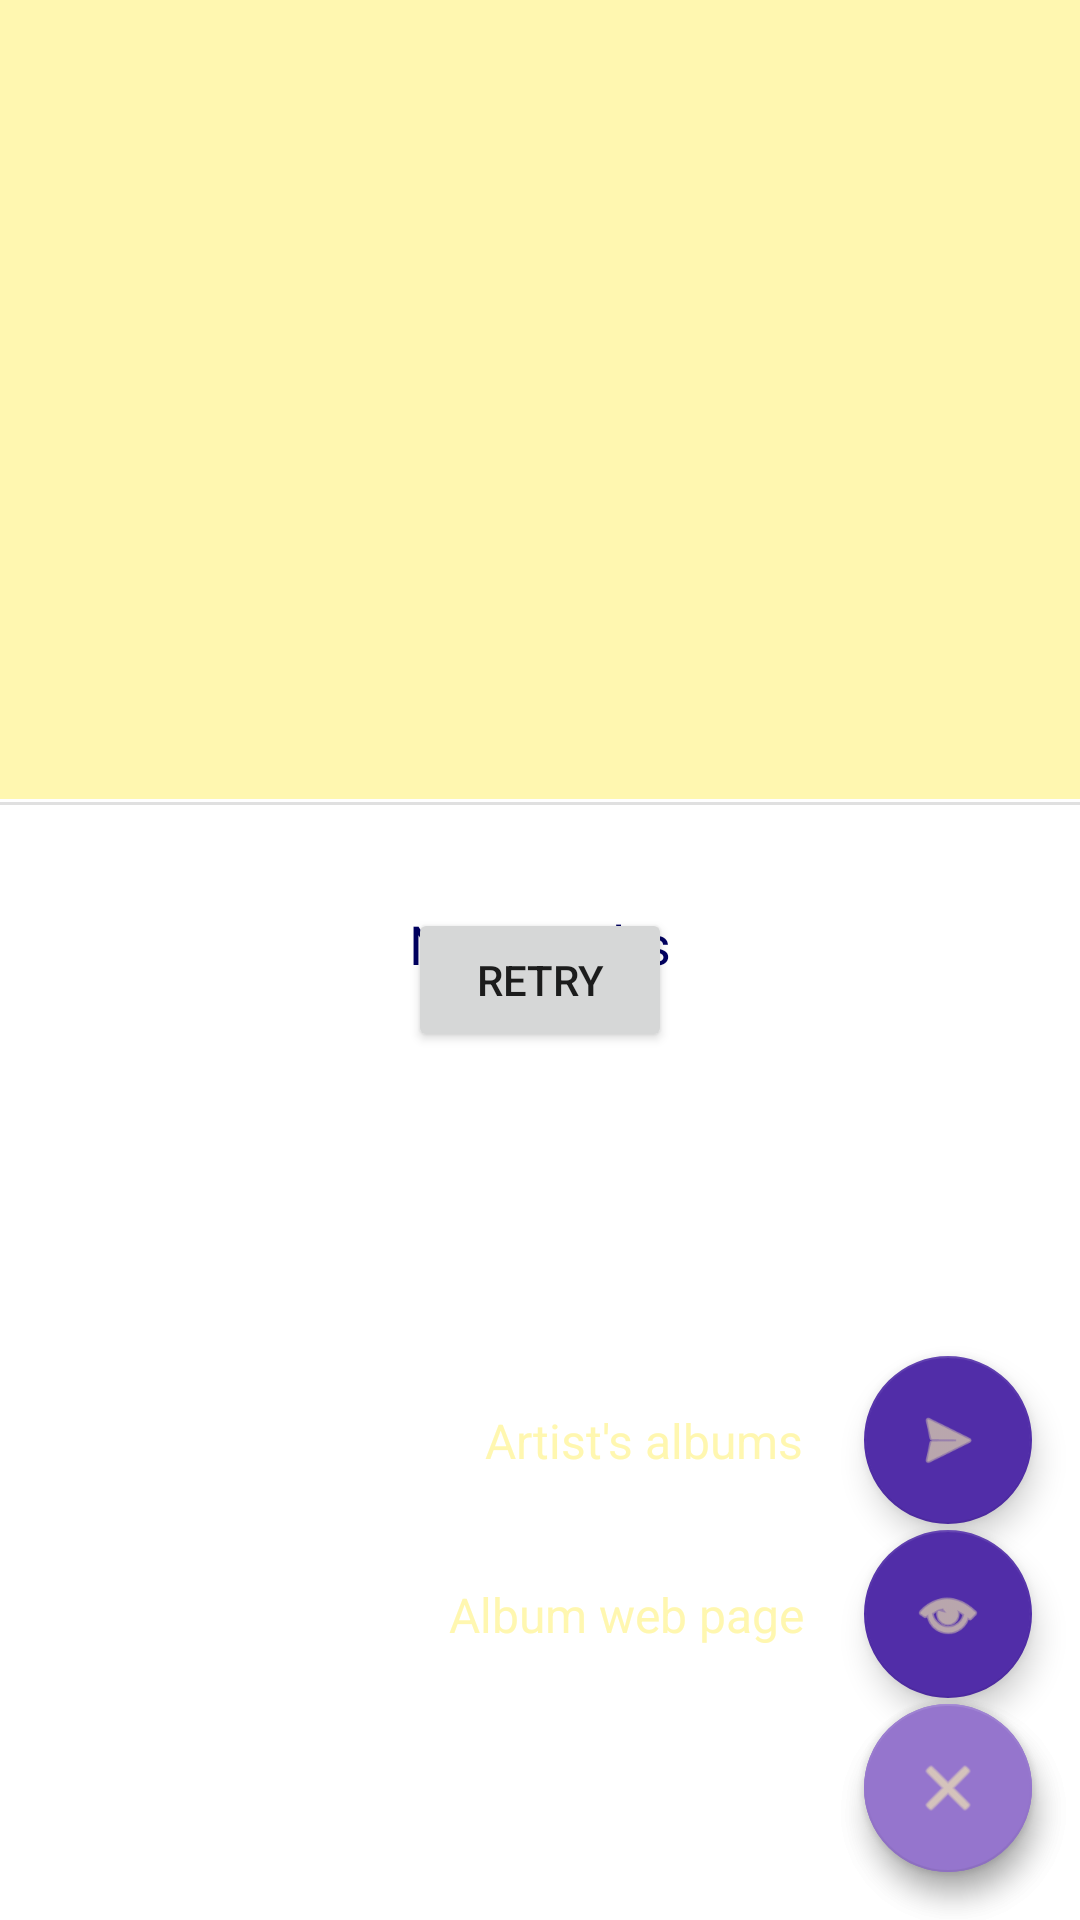

Screen size 1080 x 1920. Icon name, then its box in pixels as bbox=[x1, y1, x2, y2]:
send: bbox=[864, 1356, 1032, 1524]
view: bbox=[864, 1530, 1032, 1698]
